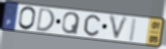C: (83, 14, 102, 37)
D: (35, 7, 56, 33)
I: (127, 17, 139, 43)
O: (17, 6, 37, 31)
Q: (61, 12, 82, 36)
V: (108, 14, 131, 43)
